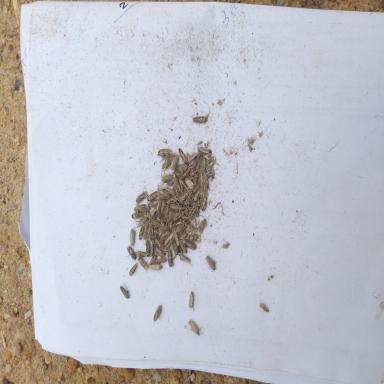pbw: (205, 154, 217, 172), (153, 304, 162, 326), (178, 147, 189, 165), (174, 205, 186, 221), (179, 254, 193, 267), (179, 228, 192, 241), (200, 191, 208, 212), (146, 190, 161, 201), (119, 284, 130, 299), (192, 186, 202, 202), (197, 218, 208, 232), (163, 232, 173, 247), (136, 191, 148, 203), (170, 154, 179, 170), (184, 177, 195, 190), (138, 257, 149, 270), (188, 291, 195, 311), (190, 115, 207, 123), (127, 246, 136, 260), (129, 262, 138, 276), (195, 198, 201, 218), (162, 174, 174, 184), (130, 228, 136, 246), (134, 204, 146, 213), (189, 234, 201, 243), (157, 148, 172, 155), (172, 218, 185, 226), (186, 241, 197, 250), (145, 211, 154, 222), (180, 191, 189, 202), (188, 222, 197, 233), (172, 239, 178, 255), (138, 225, 144, 241), (198, 146, 210, 154), (168, 248, 173, 267), (159, 230, 169, 239), (149, 255, 158, 265), (156, 256, 167, 264), (156, 198, 161, 215), (189, 207, 196, 219), (135, 251, 147, 258), (180, 242, 187, 254), (131, 213, 145, 219), (178, 178, 185, 190), (168, 208, 172, 229), (148, 199, 157, 208), (158, 183, 168, 191), (260, 304, 270, 312), (165, 188, 175, 196), (174, 233, 180, 246), (160, 193, 171, 200), (154, 237, 162, 246), (146, 239, 150, 257), (148, 265, 162, 270), (150, 241, 154, 256), (166, 202, 170, 216), (206, 171, 215, 177), (154, 225, 158, 238), (162, 200, 164, 214)
